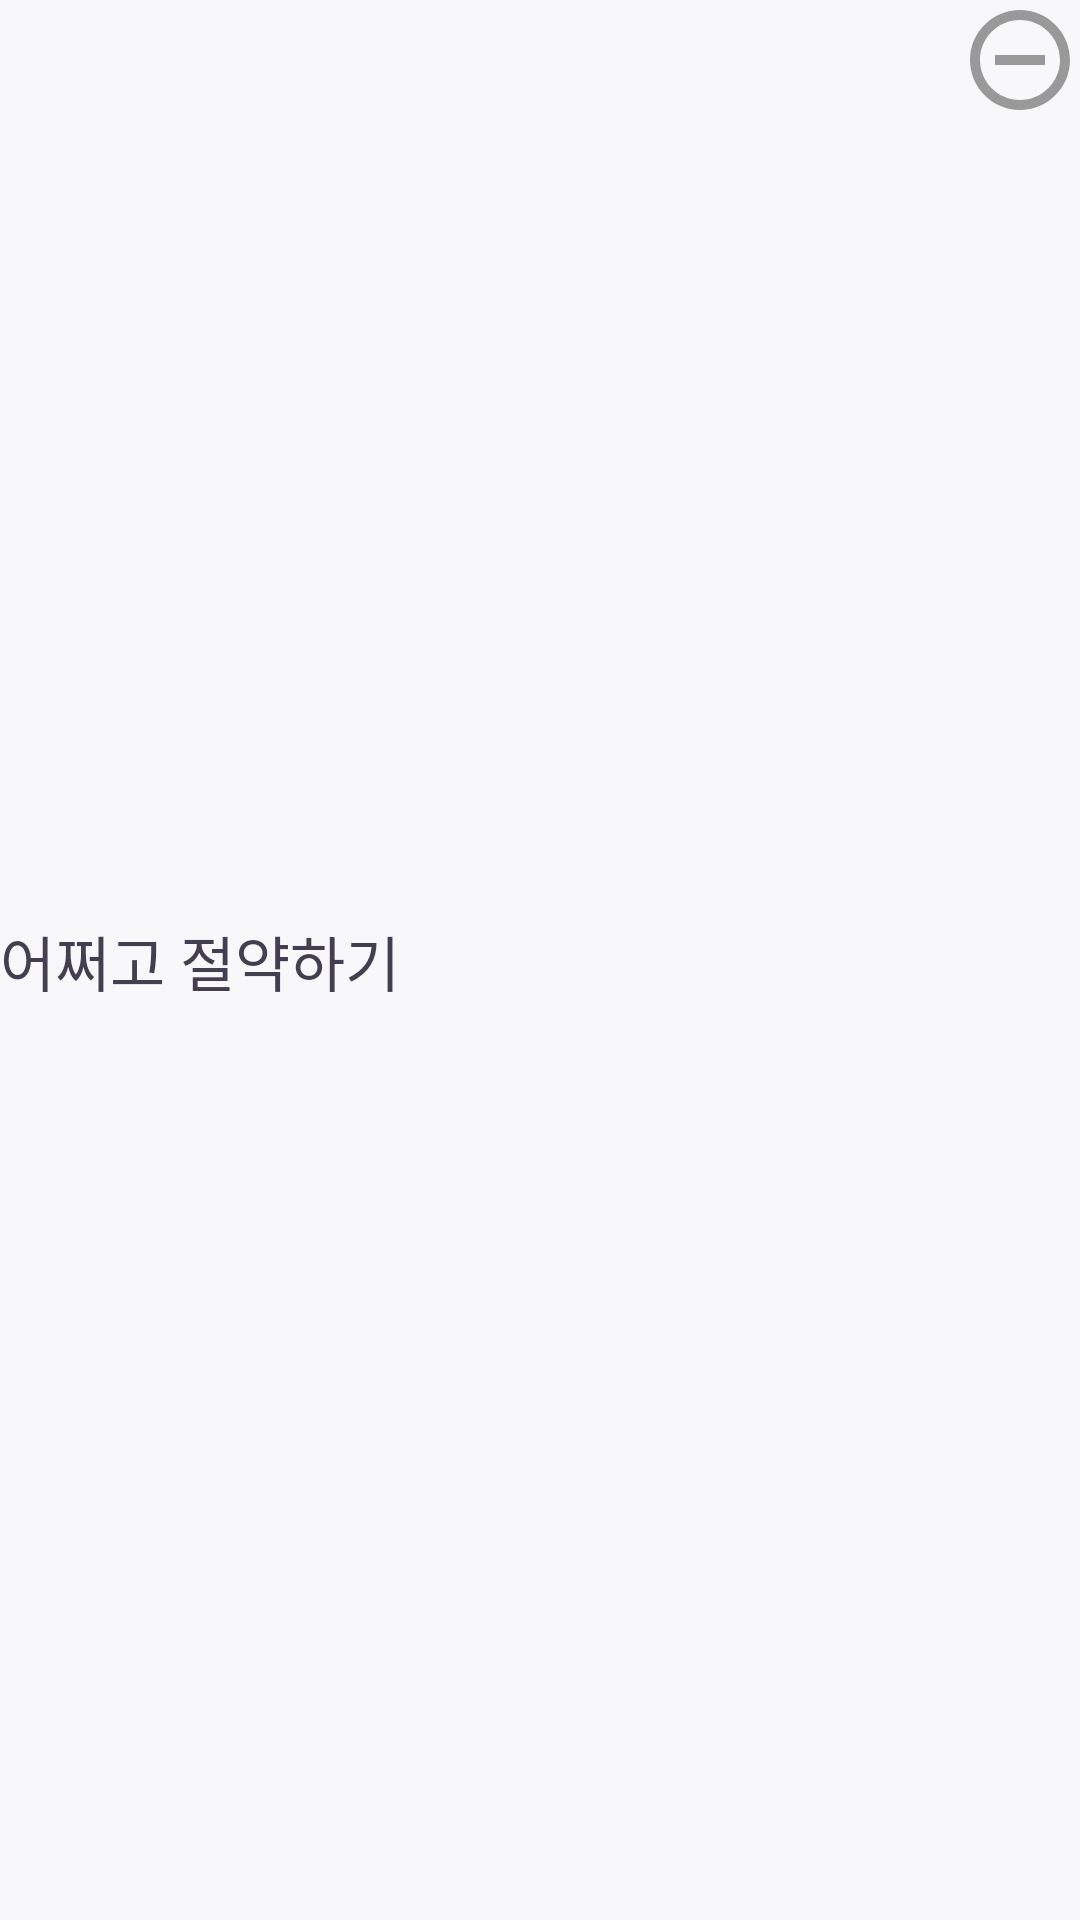

Icons on this 1080x1920 Android screen, each with the point to tap as (x,y):
Remove Button: (1020,60)
